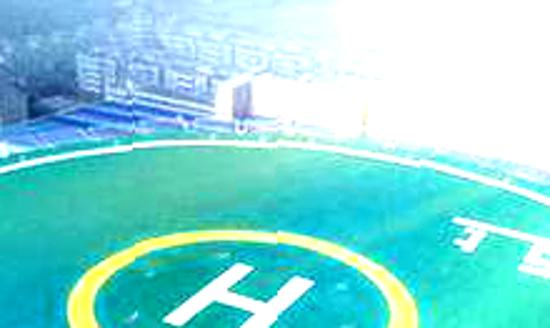Apron: (62, 225, 419, 328)
